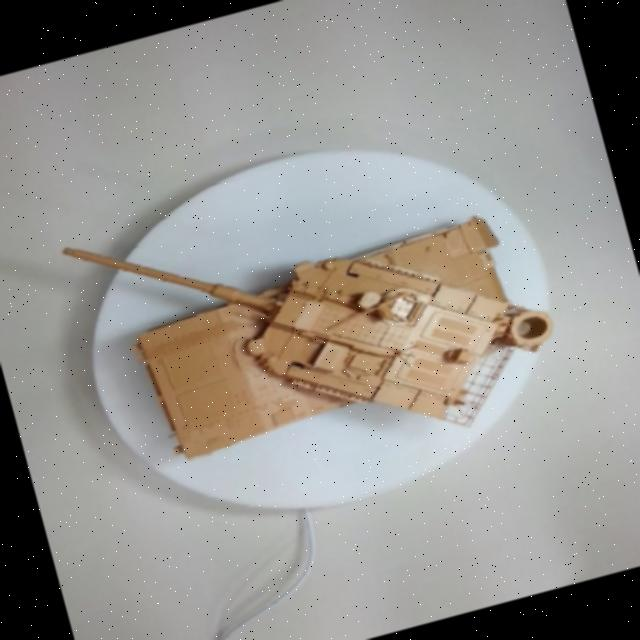korea tank: (0, 96, 604, 566)
